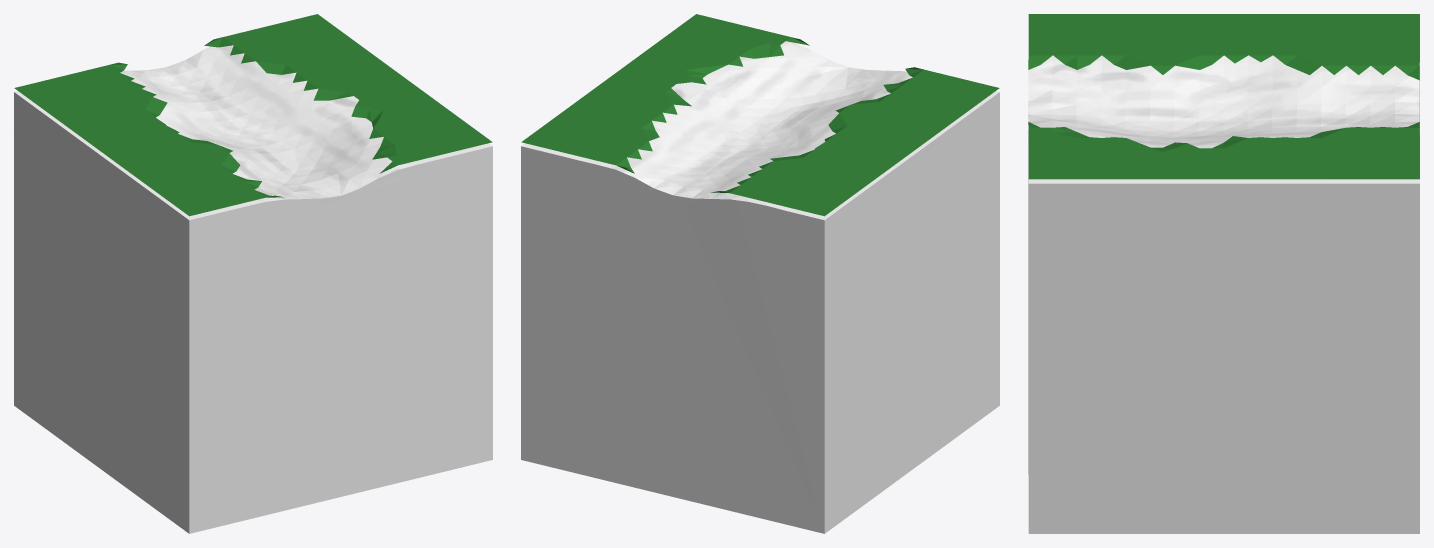
Rendered from PathStraight.glb.
The picture shows the model from 3 angles, left to right: view 1: azimuth 30°, elevation 25°; view 2: azimuth 150°, elevation 25°; view 3: azimuth 270°, elevation 25°; orthographic projection. The views are drawn at different scales.
Visible parts, largest first — view 1: PathStraight, PathStraightGrass; view 2: PathStraight, PathStraightGrass; view 3: PathStraight, PathStraightGrass.
Part boxes in pixels (x1,y1,x2,y2): PathStraight: [14, 45, 492, 533]; PathStraightGrass: [14, 14, 492, 216]; PathStraight: [521, 41, 999, 533]; PathStraightGrass: [521, 14, 999, 216]; PathStraight: [1028, 55, 1419, 533]; PathStraightGrass: [1028, 14, 1419, 179].
Size of the model in its own units: 2 by 2 by 2.
2 materials, 1 textured.
